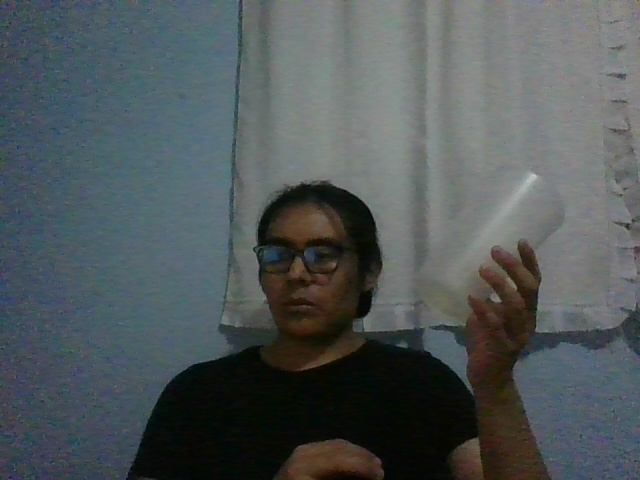vaso: (415, 169, 563, 320)
